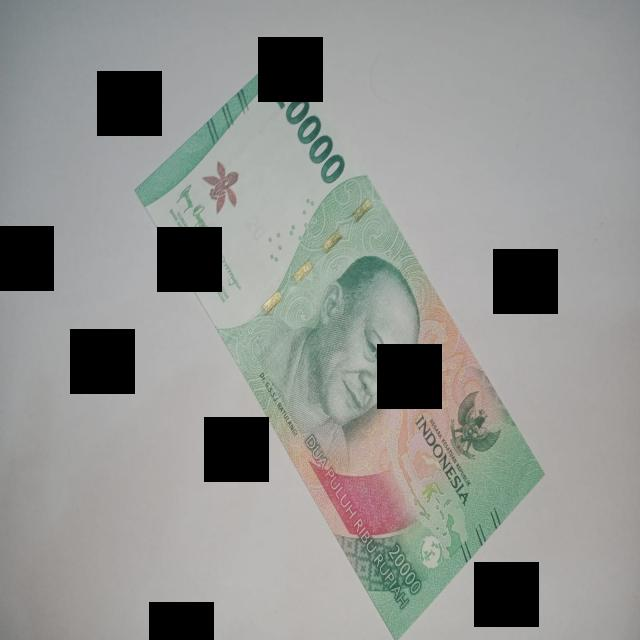dua puluh ribu rupiah: (136, 47, 542, 637)
